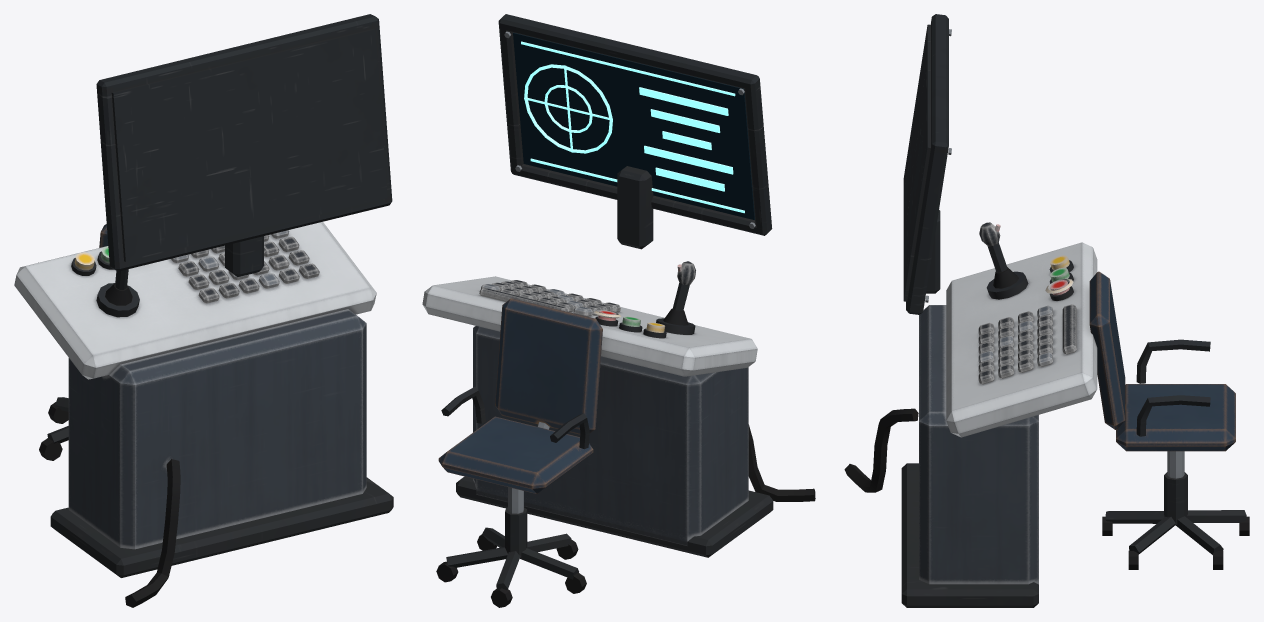
Rendered from consola_control_hangar.fbx.
3 renders of one model, left to right at view 1: azimuth 30°, elevation 25°; view 2: azimuth 150°, elevation 25°; view 3: azimuth 270°, elevation 25°, orthographic. The views are drawn at different scales.
Visible parts, largest first — view 1: consola_control_hangar, consola_control_hangar_silla; view 2: consola_control_hangar, consola_control_hangar_silla, consola_control_hangar_pantalla_neon; view 3: consola_control_hangar, consola_control_hangar_silla.
Part boxes in pixels (left/top/right/bottom): consola_control_hangar: left=14, top=14, right=393, bottom=607; consola_control_hangar_silla: left=38, top=224, right=108, bottom=460; consola_control_hangar: left=422, top=14, right=815, bottom=557; consola_control_hangar_silla: left=436, top=298, right=602, bottom=607; consola_control_hangar_pantalla_neon: left=521, top=41, right=744, bottom=213; consola_control_hangar: left=844, top=14, right=1097, bottom=607; consola_control_hangar_silla: left=1089, top=271, right=1249, bottom=569.
Bounding box in the file's own units: 1.97 × 3.04 × 2.36.
2 materials, 1 textured.
